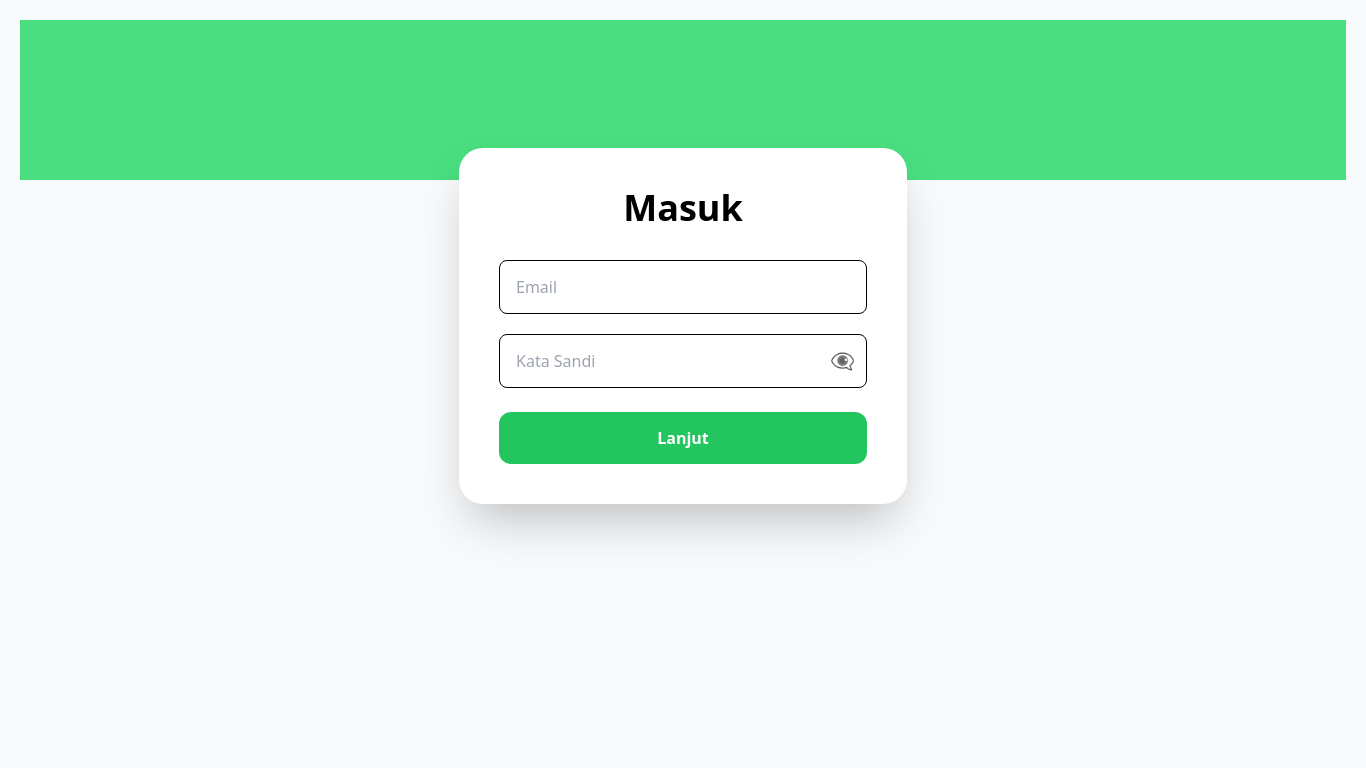
Login Component › should display error message on login failure
The width and height of the screenshot is (1366, 768).
Type "wrong@example.com" into the field with placeholder "Email" at (683, 287), box [499,260,867,314]
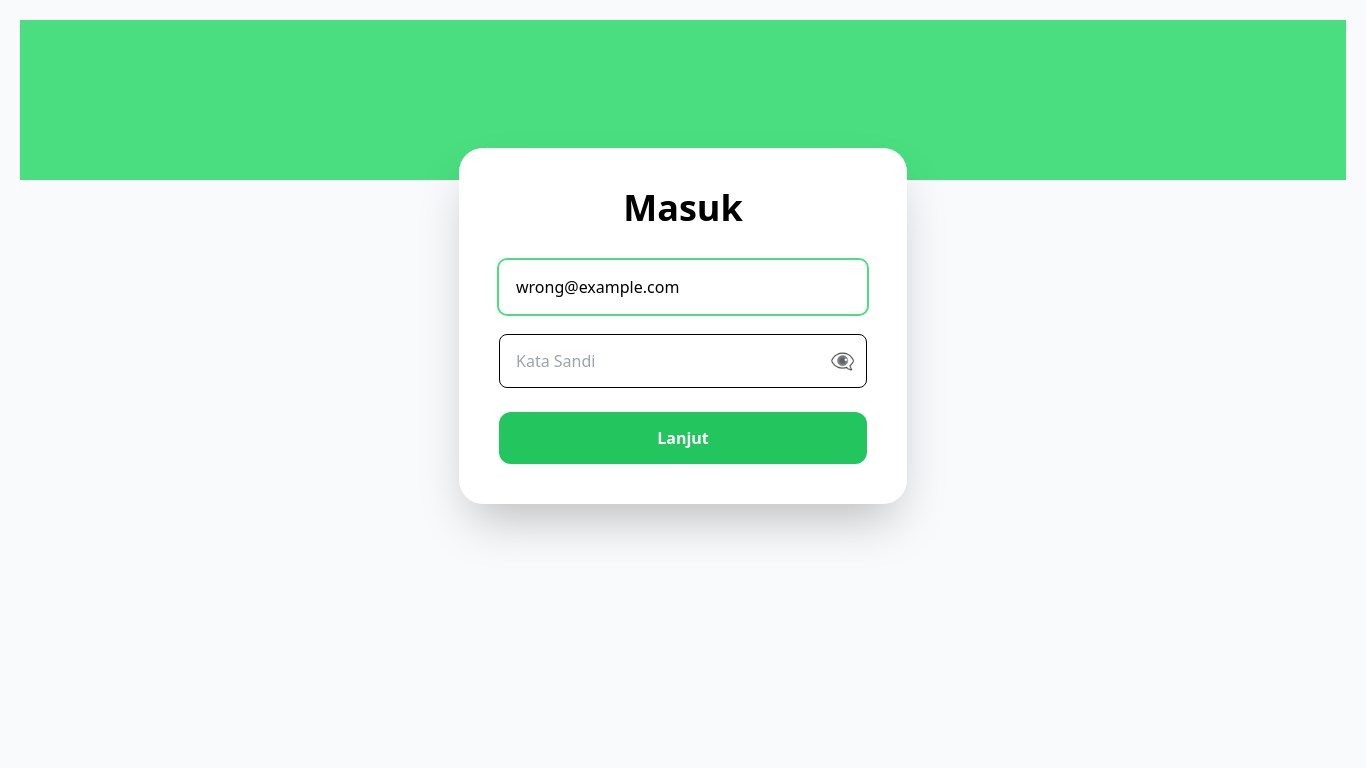
Type "wrongpassword" into the password field with placeholder "Kata Sandi" at (683, 361), box [499,334,867,388]
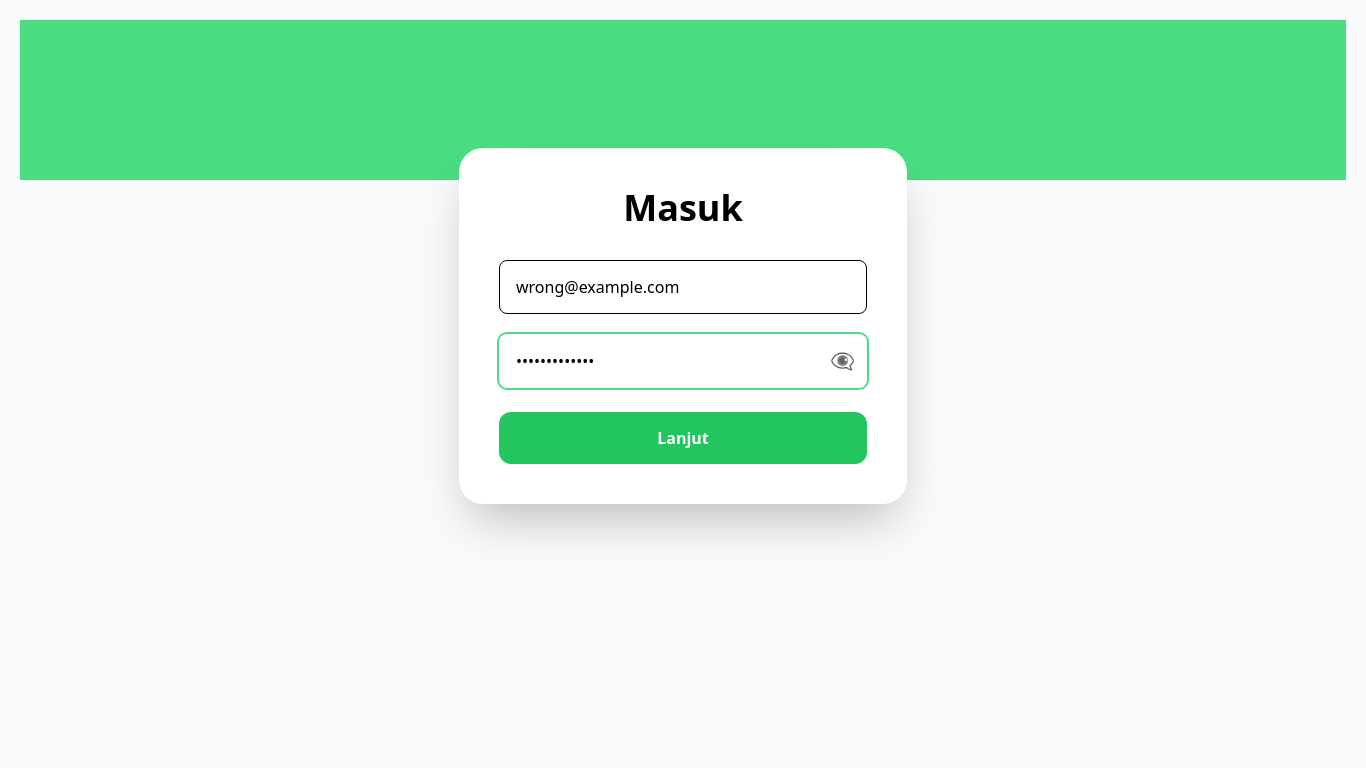
Click the button "Lanjut" at (683, 438), box [499,412,867,464]
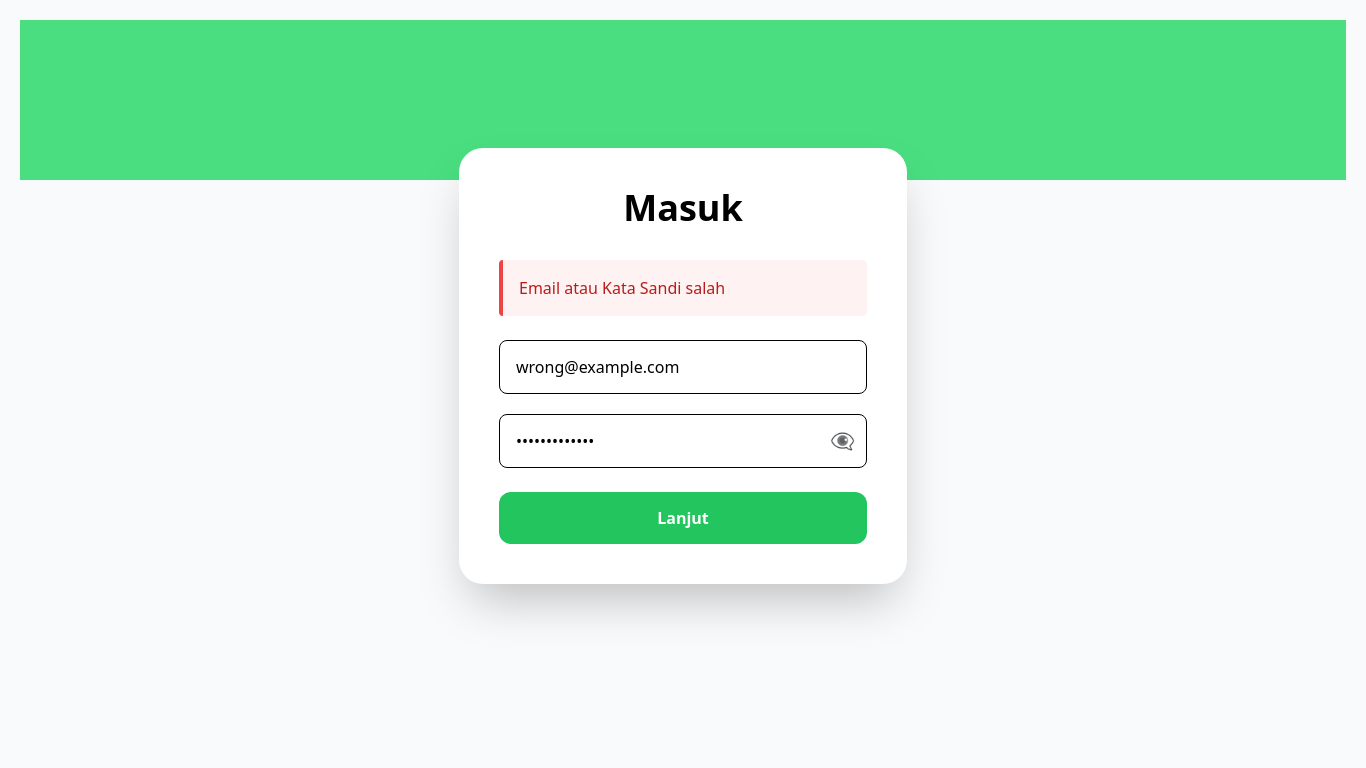
Now the text "Email atau Kata Sandi salah" is shown, box [499,260,867,316]
